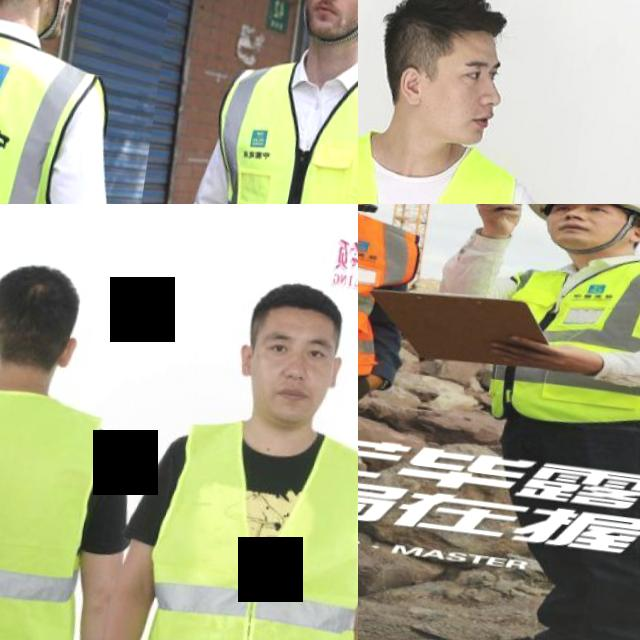vest: (145, 418, 358, 640), (0, 384, 102, 640), (492, 263, 640, 435), (206, 66, 358, 204), (358, 128, 538, 204)
